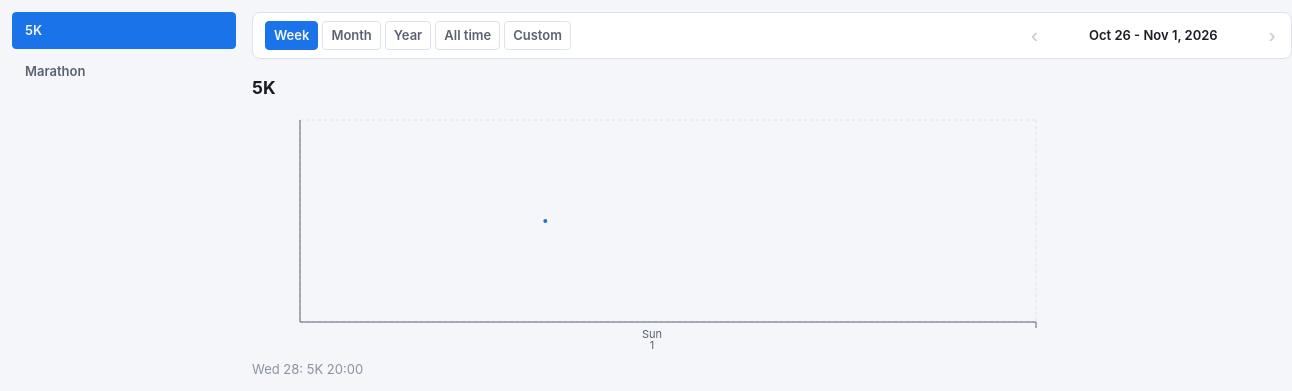
Test case: RacePredictionsChart › lists only the distances that actually have a prediction, and switches on click
Expected: the navigation bar named "Metrics" shows "5K", [12,12,236,49]
Expected: the navigation bar named "Metrics" does not show "10K", [12,12,236,90]
Click the button "Marathon": (124, 71) [12,53,236,90]
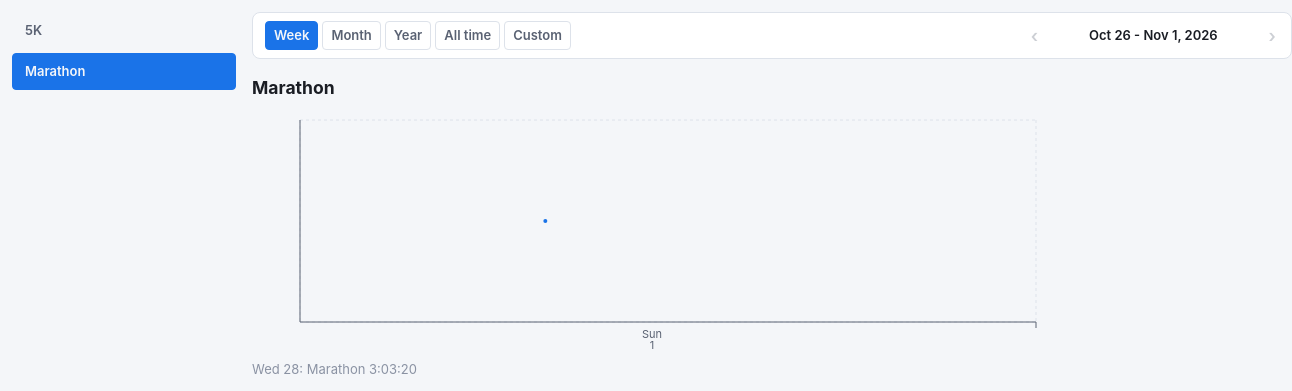
Now the heading "Marathon" is shown, box [252,77,335,98]
